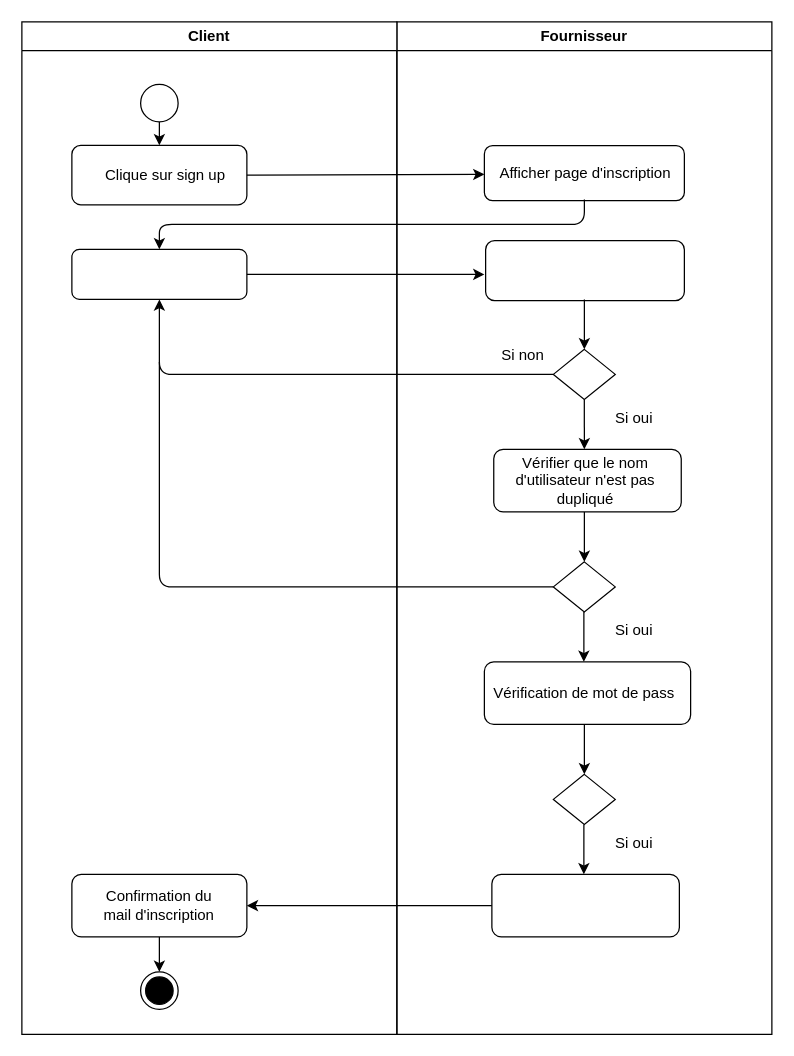
This 794x1056 diagram has some shape labels left out. The box of each missing label's shape, as (x1, y1, x2, y2) in pixels:
Entre information personnelles: (71, 248, 247, 299)
Envoie mail confirmation: (491, 873, 679, 937)
Vérification champs obligatoire bien remplis: (484, 239, 684, 301)
